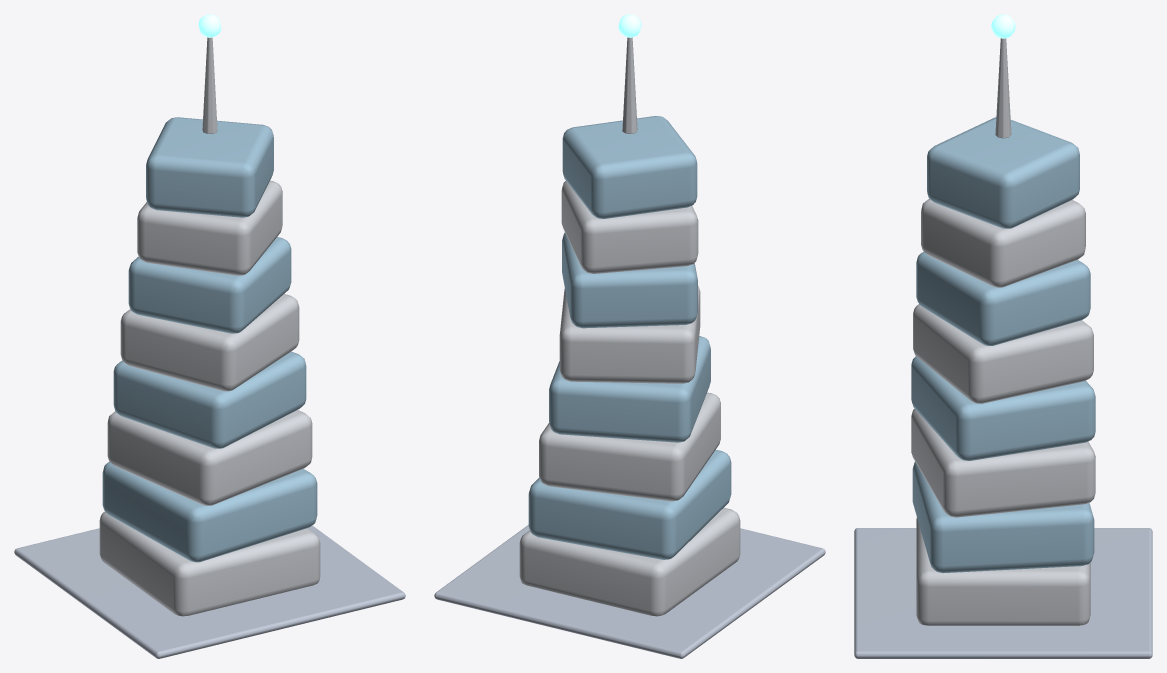
3 views of the same model, side by side, from view 1: azimuth 30°, elevation 25°; view 2: azimuth 150°, elevation 25°; view 3: azimuth 270°, elevation 25° (orthographic). The views are drawn at different scales.
Visible parts, largest first — view 1: Cube; view 2: Cube; view 3: Cube.
Part boxes in pixels (x1,y1,x2,y2): Cube: (14,14,405,658); Cube: (434,14,825,658); Cube: (854,14,1152,658).
Size of the model in its own units: 0.72 by 1.55 by 0.72.
